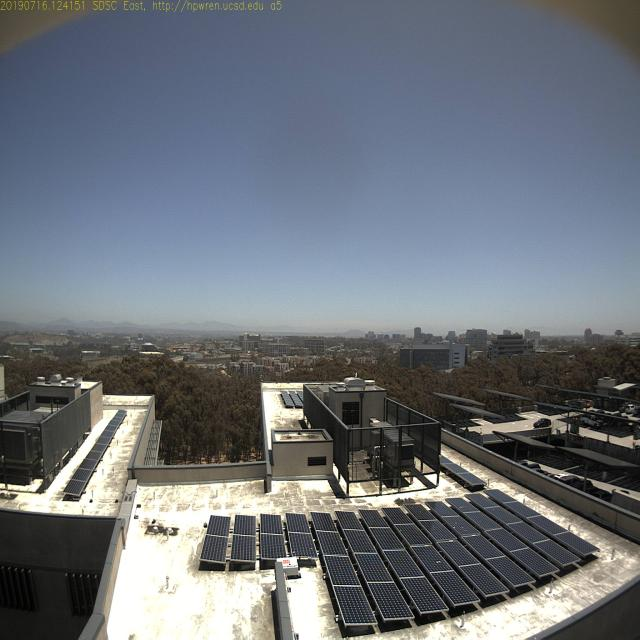smoke: (71, 314, 106, 341)
